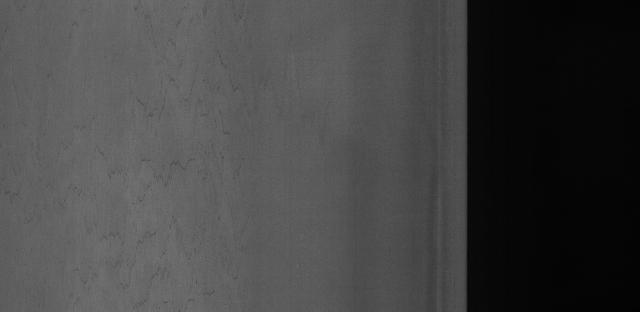silk_spot: (121, 41, 287, 235)
